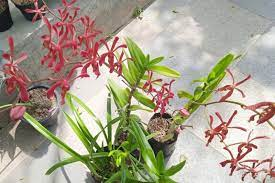orchid: (8, 6, 261, 167)
